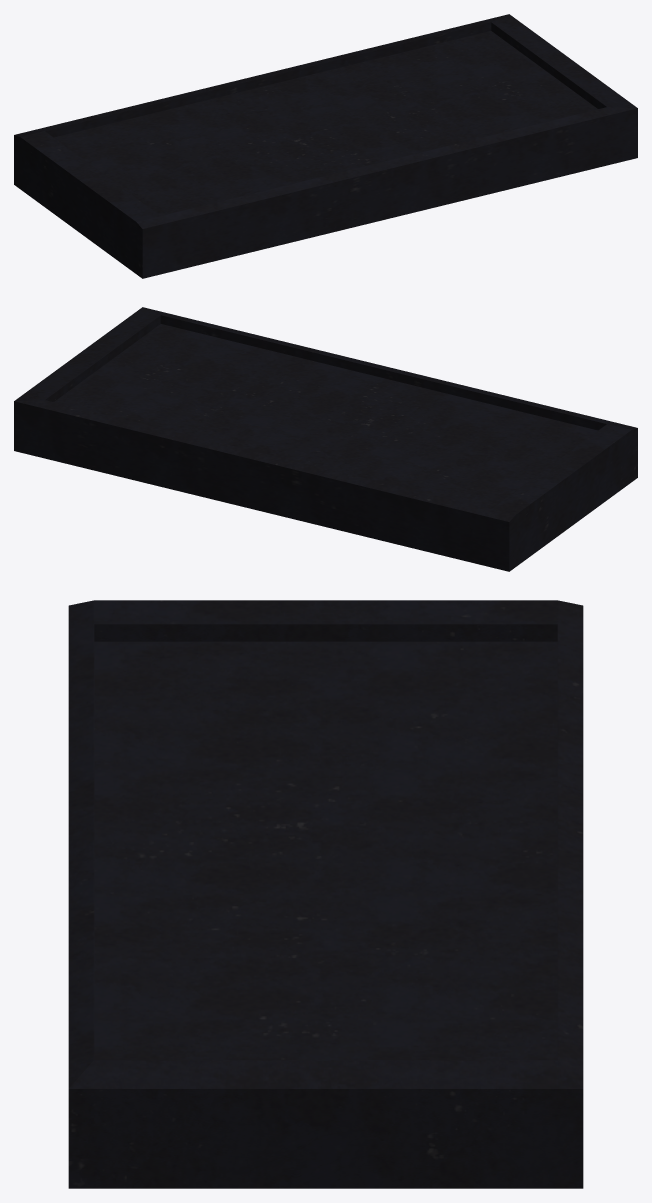
Rendered from newpinballtray.fbx.
3 views of the same model, one above another, from view 1: azimuth 30°, elevation 25°; view 2: azimuth 150°, elevation 25°; view 3: azimuth 270°, elevation 25° (orthographic). The views are drawn at different scales.
Visible parts, largest first — view 1: newpinballtray; view 2: newpinballtray; view 3: newpinballtray.
Boxes of the visible parts, x1,y1,x2,y2 form: newpinballtray: (14, 14, 637, 278); newpinballtray: (14, 307, 637, 571); newpinballtray: (68, 600, 583, 1188).
Size of the model in its own units: 200 by 20.17 by 89.95.
